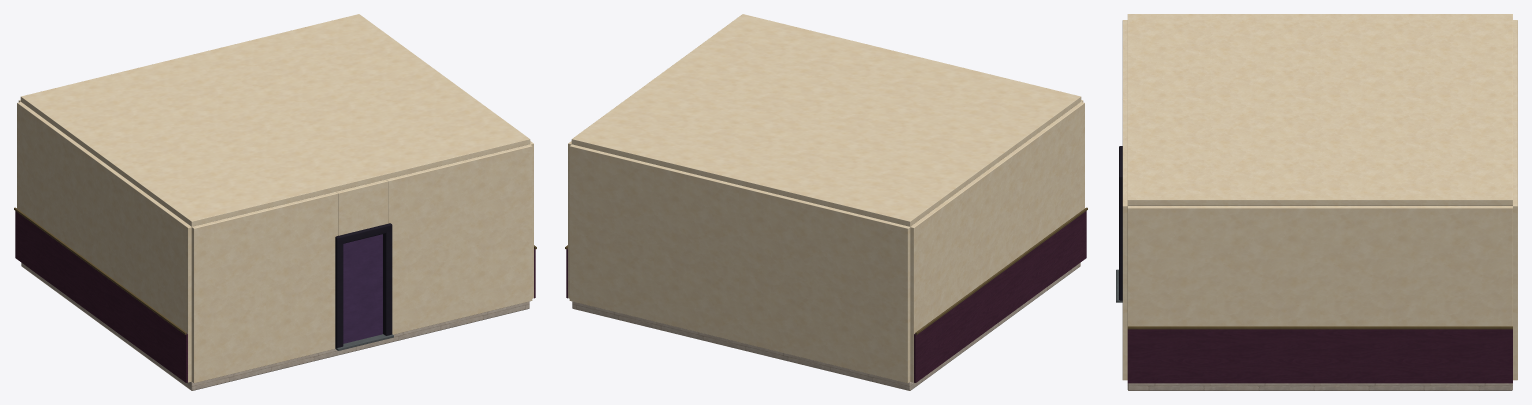
The model's file is explore3d__electrical_room.glb.
3 views of the same model, side by side, from view 1: azimuth 30°, elevation 25°; view 2: azimuth 150°, elevation 25°; view 3: azimuth 270°, elevation 25° (orthographic). The views are drawn at different scales.
Parts seen in each view (by area): view 1: ceiling.001, wall.002, wall.001, wall.004, lower_panel.003, front.013_leaf, electrical_room_floor, door_lintel, front.013_jamb, front.013_jamb.001, panel_rail.003, front.013_header; view 2: ceiling.001, wall.003, wall.004, lower_panel.003, electrical_room_floor, panel_rail.003; view 3: ceiling.001, wall.005, lower_panel.004, electrical_room_floor, wall.003, panel_rail.004, wall.001, wall.002, front.013_jamb.
Boxes of the visible parts, box(x1,y1,x2,y2) form: ceiling.001: box(20, 14, 530, 226); wall.002: box(191, 191, 337, 383); wall.001: box(386, 144, 532, 334); wall.004: box(17, 102, 191, 382); lower_panel.003: box(15, 211, 187, 382); front.013_leaf: box(343, 234, 382, 343); electrical_room_floor: box(21, 263, 529, 390); door_lintel: box(336, 179, 387, 235); front.013_jamb: box(383, 229, 392, 335); front.013_jamb.001: box(335, 241, 343, 348); panel_rail.003: box(14, 207, 186, 334); front.013_header: box(335, 223, 392, 244); ceiling.001: box(571, 14, 1081, 226); wall.003: box(569, 144, 910, 383); wall.004: box(910, 102, 1084, 382); lower_panel.003: box(914, 211, 1086, 382); electrical_room_floor: box(572, 263, 1080, 390); panel_rail.003: box(915, 207, 1087, 334); ceiling.001: box(1127, 14, 1512, 205); wall.005: box(1127, 206, 1512, 326); lower_panel.004: box(1127, 329, 1512, 383); electrical_room_floor: box(1127, 383, 1512, 390); wall.003: box(1513, 20, 1517, 380); panel_rail.004: box(1127, 326, 1512, 329); wall.001: box(1122, 127, 1127, 380); wall.002: box(1122, 20, 1127, 99); front.013_jamb: box(1119, 180, 1122, 300).
Size of the model in its own units: 8.32 by 3.84 by 7.3.
10 materials, 9 textured.
